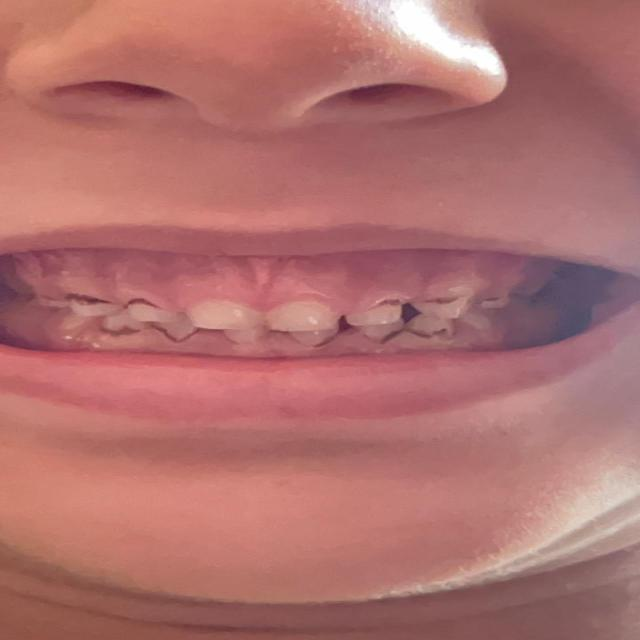tooth: (274, 306, 332, 334), (198, 303, 252, 327), (424, 298, 465, 320), (347, 306, 400, 322), (415, 322, 453, 344), (156, 324, 196, 340), (222, 330, 267, 344), (356, 328, 394, 344), (287, 333, 337, 345), (124, 302, 159, 318), (105, 316, 136, 334), (71, 297, 105, 313), (64, 318, 93, 332)
